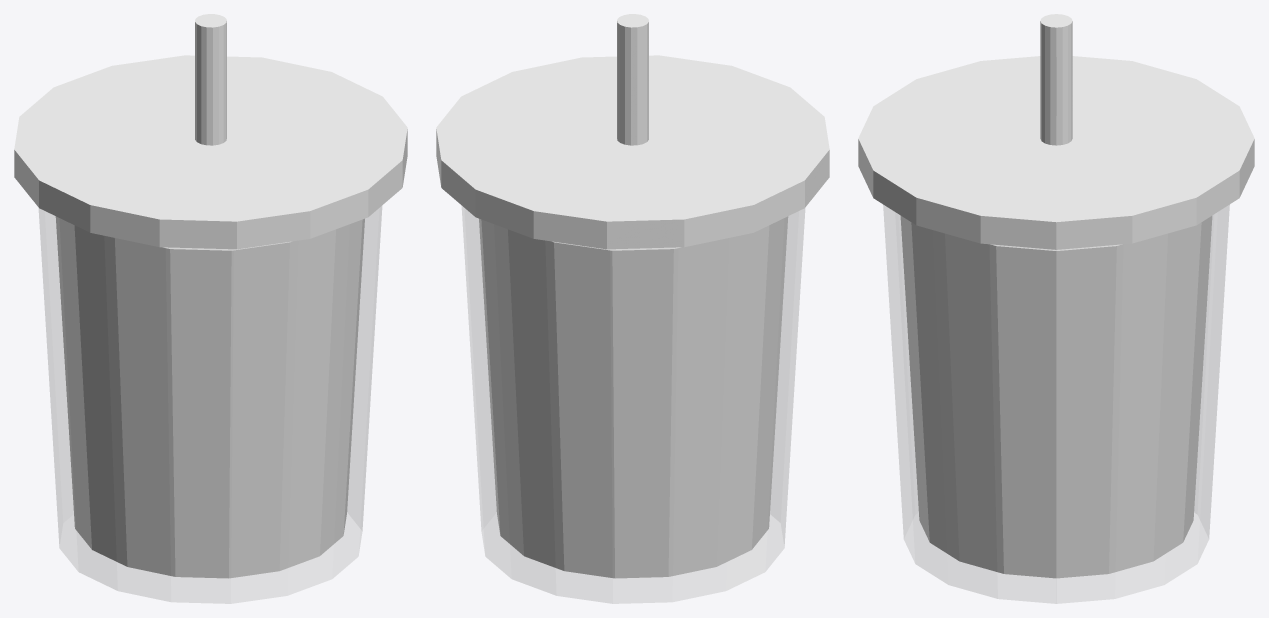
Rendered from Shake.fbx.
The picture shows the model from 3 angles, left to right: view 1: azimuth 30°, elevation 25°; view 2: azimuth 150°, elevation 25°; view 3: azimuth 270°, elevation 25°; orthographic projection.
Visible parts, largest first — view 1: Bottle, Chocolate, Lid; view 2: Bottle, Chocolate, Lid; view 3: Bottle, Chocolate, Lid.
Part boxes in pixels (x1,y1,x2,y2): Bottle: (39, 206, 381, 603); Chocolate: (55, 216, 364, 578); Lid: (14, 14, 407, 249); Bottle: (462, 206, 804, 603); Chocolate: (479, 216, 788, 578); Lid: (436, 14, 829, 249); Bottle: (883, 205, 1229, 603); Chocolate: (900, 216, 1212, 578); Lid: (858, 14, 1254, 249).
Size of the model in its own units: 260 by 375 by 260.
